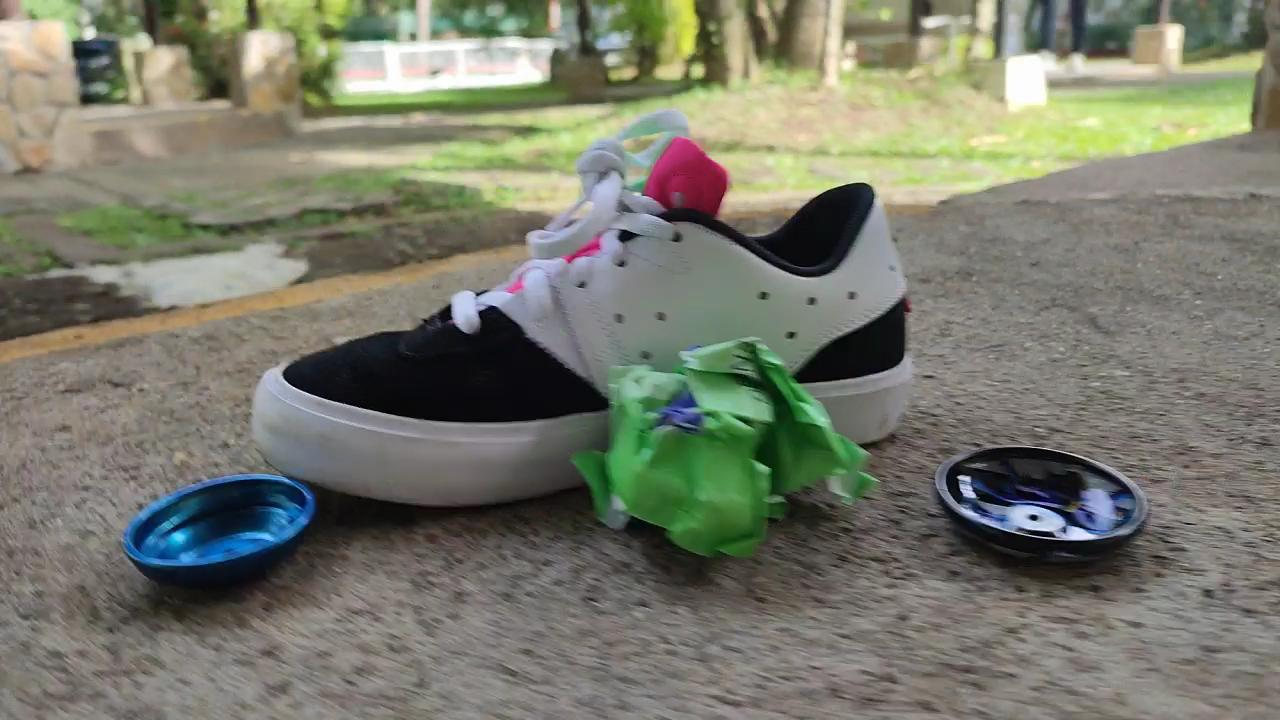Paper: (578, 307, 887, 577)
